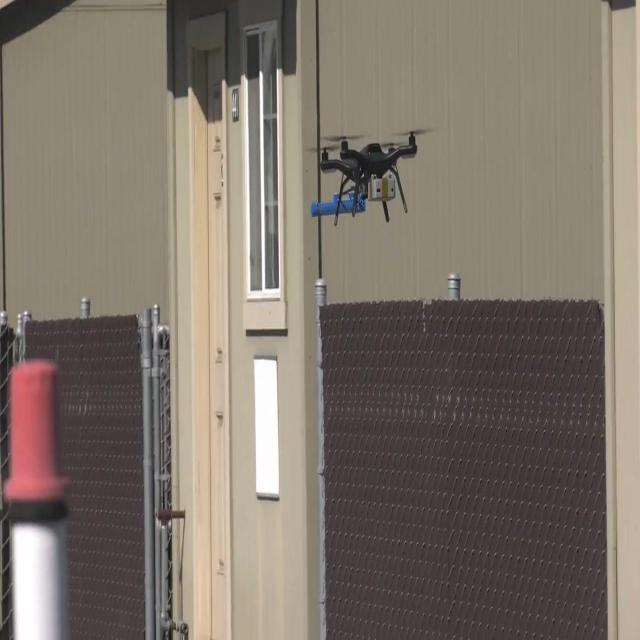UAV: (307, 130, 430, 226)
